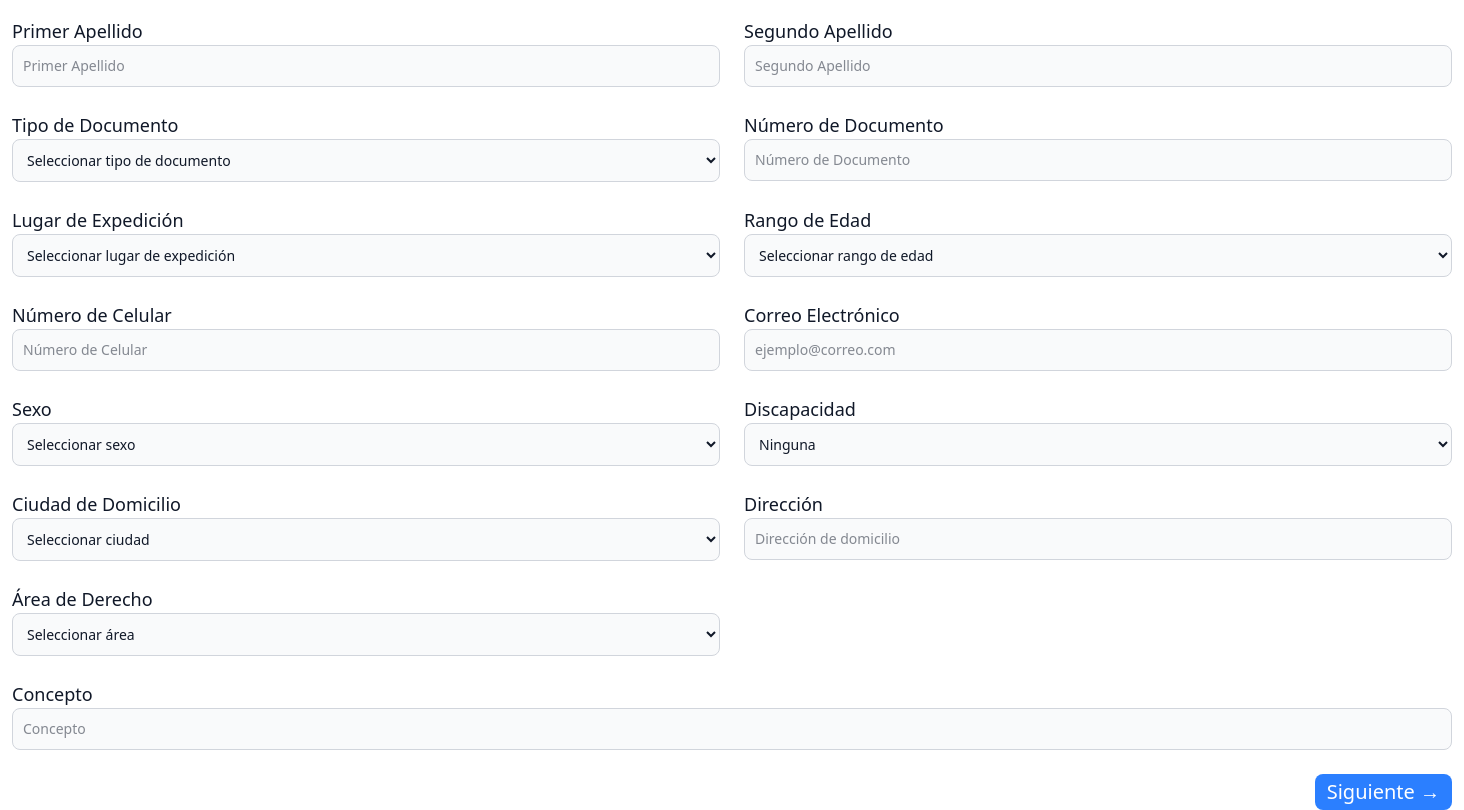
Form Validation › should show default error message when no specific error message
(page scrolled)
Click the button "Siguiente →".
click(1383, 792)  # box x1=1315 y1=774 x2=1452 y2=809
(page scrolled)
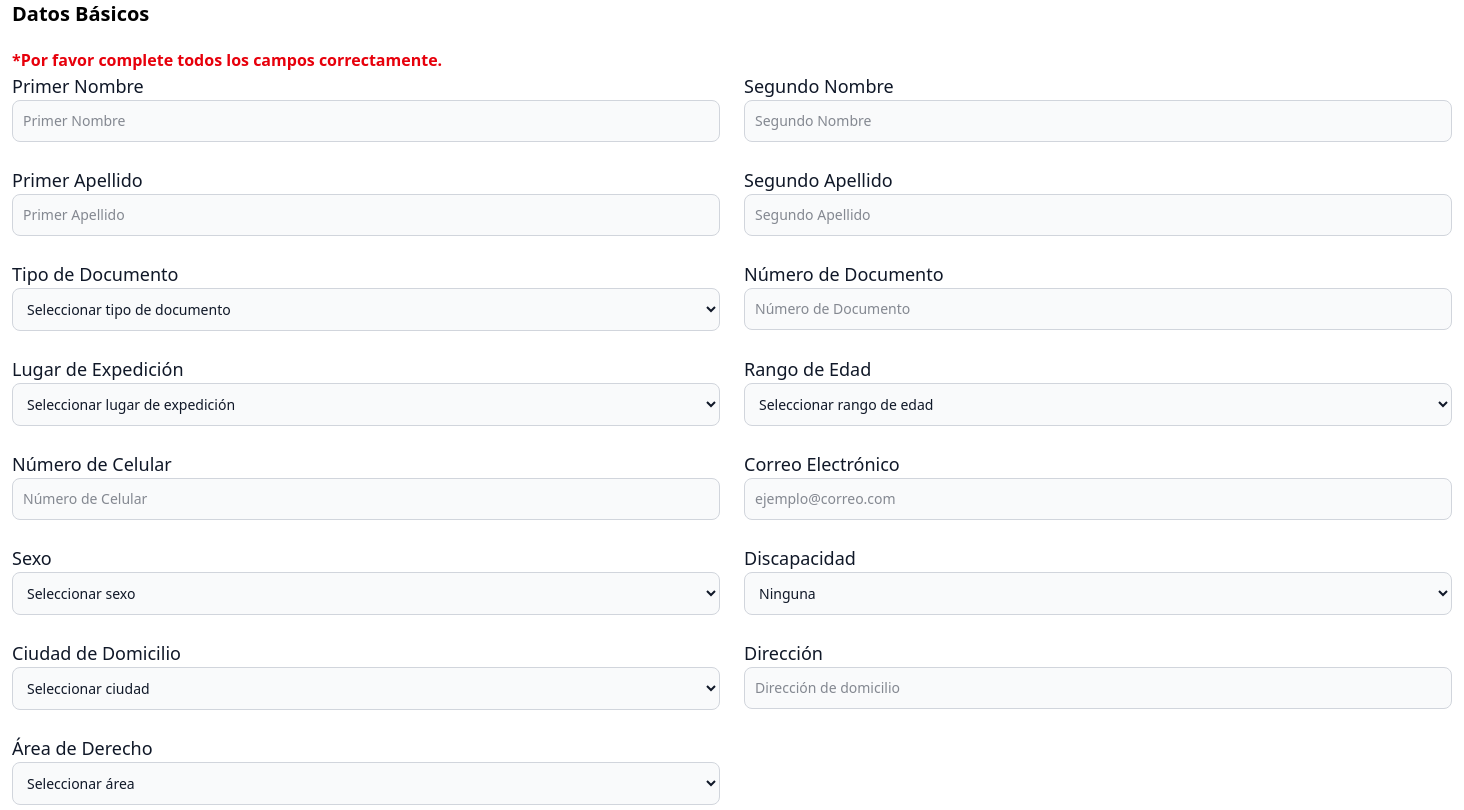
expect the text "*Por favor complete todos los campos correctamente." is shown: met, box x1=12 y1=49 x2=442 y2=71
